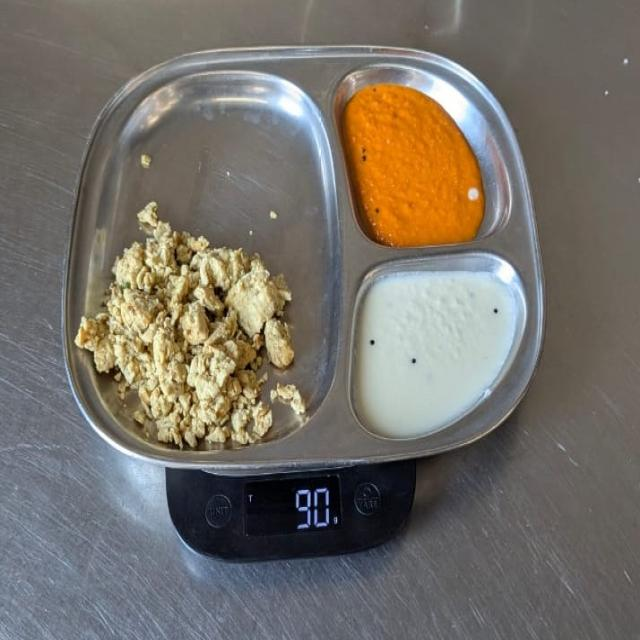Chutney: (353, 261, 529, 442), (343, 82, 489, 254)
Egg Bhurji: (71, 195, 312, 457)
